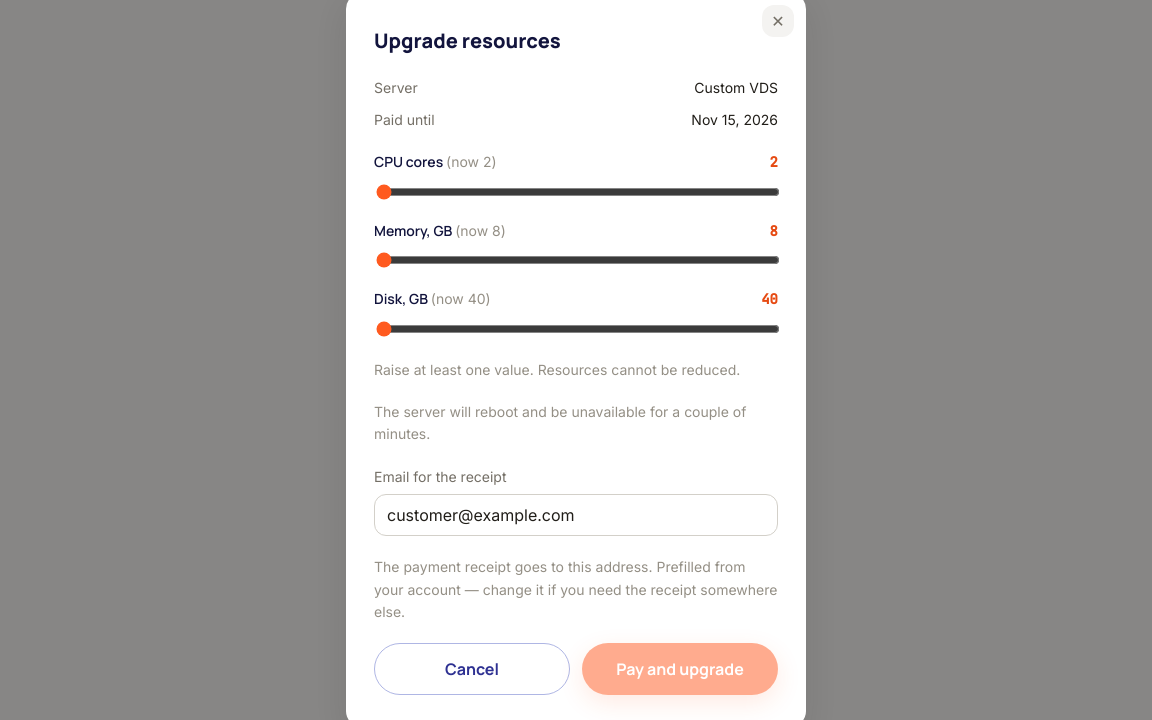
Test case: UpgradeModal › explains why Billing refused, in words the customer can act on
This screenshot has width=1152, height=720.
Set the slider named "Memory, GB" to "16" at [439, 260], box 376,252 -> 780,268
(page scrolled)
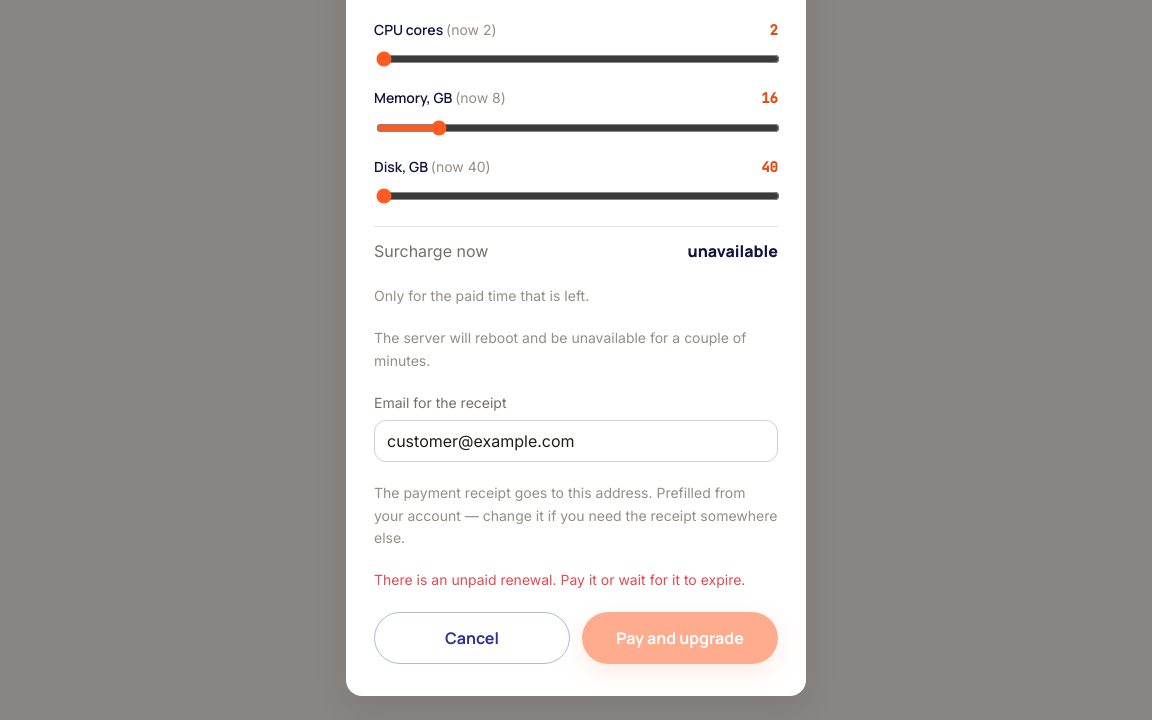
Expected: the button "Pay and upgrade" is disabled, 582,612 -> 778,664
Now the text "There is an unpaid renewal. Pay it or wait for it to expire." is shown, box 374,570 -> 778,592
